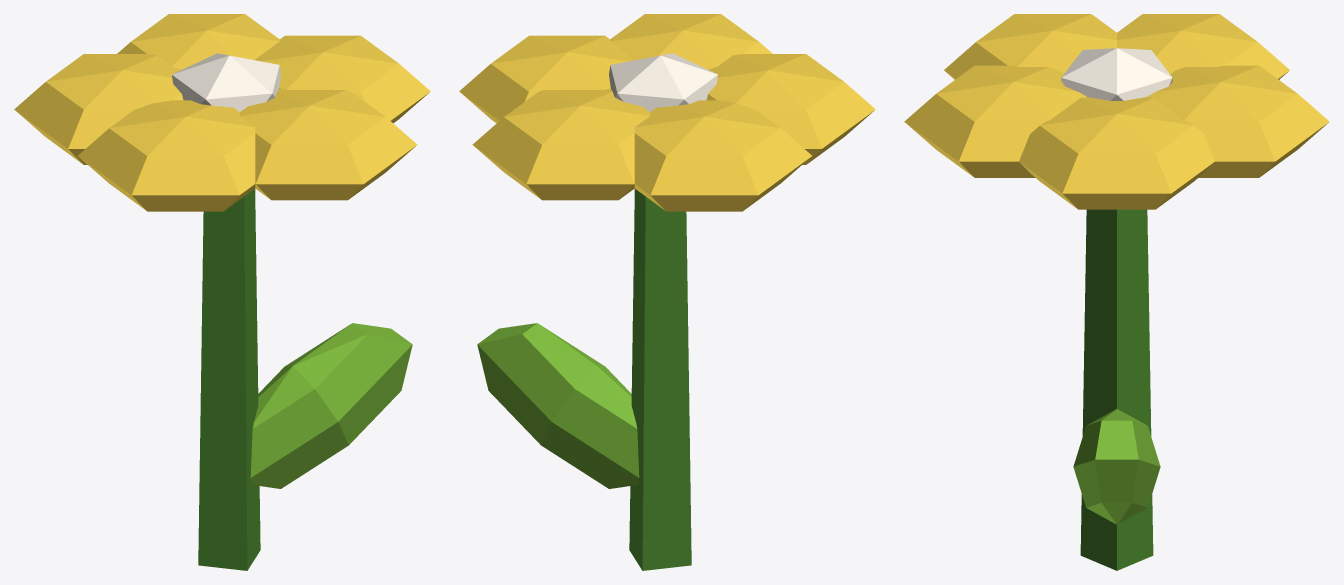
The model's file is flower_yellow.glb.
3 views of the same model, side by side, from view 1: azimuth 30°, elevation 25°; view 2: azimuth 150°, elevation 25°; view 3: azimuth 270°, elevation 25° (orthographic).
Visible parts, largest first — view 1: flower_yellow; view 2: flower_yellow; view 3: flower_yellow.
Part boxes in pixels (left/top/right/bottom): flower_yellow: left=14, top=14, right=430, bottom=570; flower_yellow: left=459, top=14, right=875, bottom=570; flower_yellow: left=904, top=14, right=1329, bottom=570.
Bounding box in the file's own units: 0.3984 × 0.5775 × 0.439.
